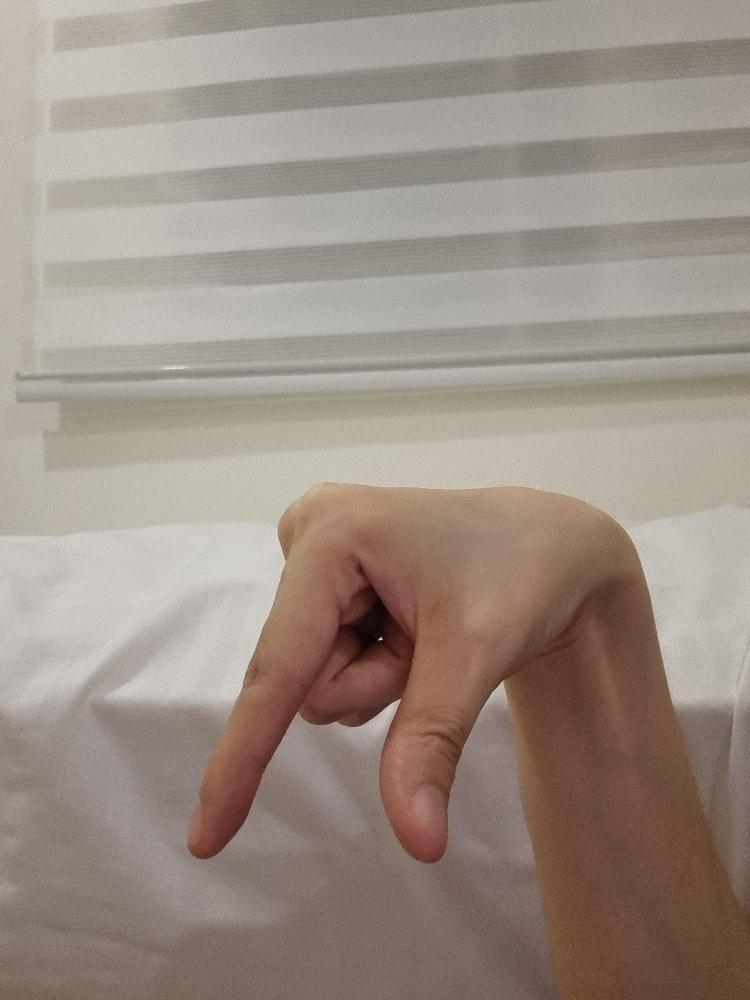q: (181, 474, 593, 870)
